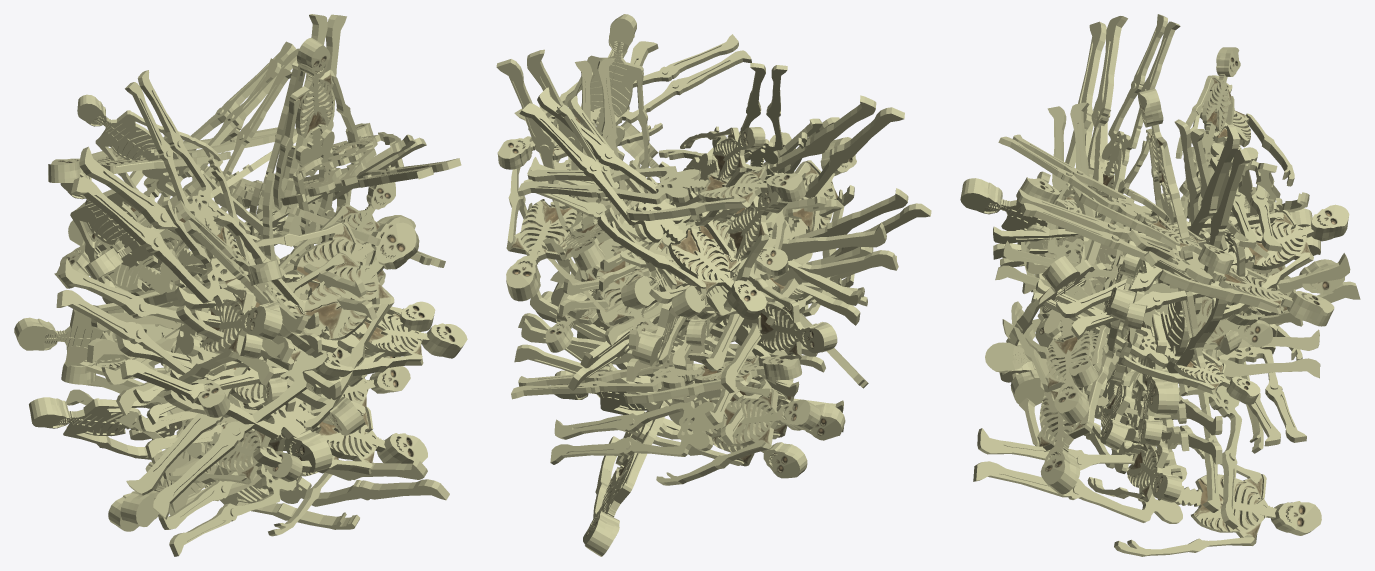
Rendered from skeletnpiledone.glb.
3 renders of one model, left to right at view 1: azimuth 30°, elevation 25°; view 2: azimuth 150°, elevation 25°; view 3: azimuth 270°, elevation 25°, orthographic. The views are drawn at different scales.
Parts seen in each view (by area): view 1: Plane.049, Plane.013, Plane.034, Plane.011, Plane.019, Plane.047, Plane.038, Plane.014, Plane.018, Plane.017, Plane.015, Plane.044 (+32 smaller); view 2: Plane.015, Plane.044, Plane.052, Plane.042, Plane.007, Plane.017, Plane.028, Plane.012, Plane.011, Plane.003, Plane.013, Plane.023 (+34 smaller); view 3: Plane.047, Plane.007, Plane.024, Plane.028, Plane.005, Plane.013, Plane.019, Plane.014, Plane.030, Plane.034, Plane.011, Plane.037 (+28 smaller).
Part boxes in pixels (left/top/right/bottom): Plane.049: left=126, top=222, right=419, bottom=519; Plane.013: left=71, top=146, right=350, bottom=380; Plane.034: left=116, top=334, right=427, bottom=474; Plane.011: left=273, top=38, right=359, bottom=250; Plane.019: left=175, top=274, right=467, bottom=376; Plane.047: left=204, top=458, right=449, bottom=529; Plane.038: left=56, top=258, right=311, bottom=422; Plane.014: left=125, top=70, right=250, bottom=291; Plane.018: left=77, top=94, right=281, bottom=251; Plane.017: left=159, top=265, right=282, bottom=393; Plane.015: left=54, top=41, right=299, bottom=288; Plane.044: left=29, top=397, right=286, bottom=459; Plane.015: left=519, top=87, right=766, bottom=319; Plane.044: left=550, top=380, right=820, bottom=485; Plane.052: left=517, top=149, right=806, bottom=220; Plane.042: left=511, top=352, right=801, bottom=403; Plane.007: left=506, top=41, right=658, bottom=301; Plane.017: left=701, top=137, right=856, bottom=393; Plane.028: left=497, top=34, right=751, bottom=169; Plane.012: left=514, top=318, right=845, bottom=440; Plane.011: left=550, top=14, right=649, bottom=283; Plane.003: left=518, top=290, right=807, bottom=478; Plane.013: left=744, top=95, right=904, bottom=223; Plane.023: left=710, top=272, right=837, bottom=366; Plane.047: left=973, top=420, right=1321, bottom=556; Plane.007: left=1016, top=189, right=1334, bottom=326; Plane.024: left=1056, top=204, right=1349, bottom=339; Plane.028: left=998, top=134, right=1234, bottom=274; Plane.005: left=1139, top=124, right=1251, bottom=391; Plane.013: left=1035, top=16, right=1127, bottom=347; Plane.019: left=1011, top=222, right=1117, bottom=423; Plane.014: left=1087, top=14, right=1180, bottom=217; Plane.030: left=1031, top=279, right=1260, bottom=404; Plane.034: left=1012, top=341, right=1111, bottom=494; Plane.011: left=1138, top=88, right=1206, bottom=368; Plane.037: left=995, top=240, right=1272, bottom=349.
Bounding box in the file's own units: 5.96 × 7.05 × 5.42.
1 material, 1 textured.
